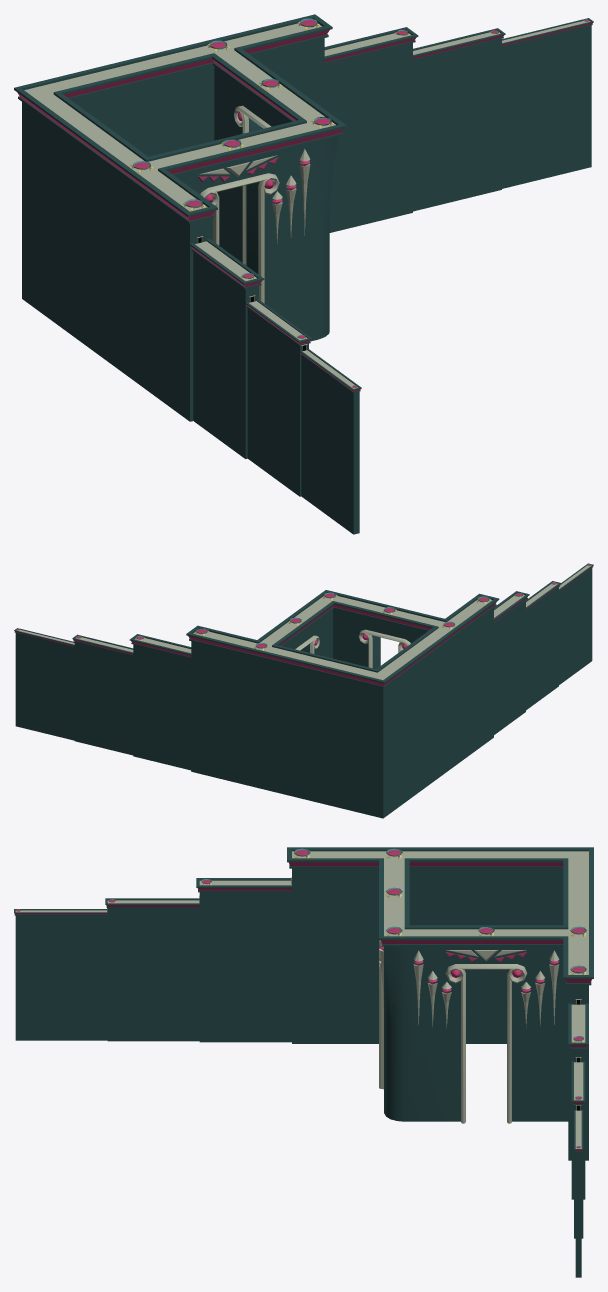
The model's file is TS_SpawnFort_MeshInfo.fbx.
The picture shows the model from 3 angles, top to bottom: view 1: azimuth 30°, elevation 25°; view 2: azimuth 150°, elevation 25°; view 3: azimuth 270°, elevation 25°; orthographic projection. The views are drawn at different scales.
Parts seen in each view (by area): view 1: SketchUp1; view 2: SketchUp1; view 3: SketchUp1.
Boxes of the visible parts, bbox=[...] form: SketchUp1: bbox=[14, 14, 593, 534]; SketchUp1: bbox=[14, 563, 593, 818]; SketchUp1: bbox=[14, 847, 593, 1277].
Bounding box in the file's own units: 1115 × 398 × 1115.
